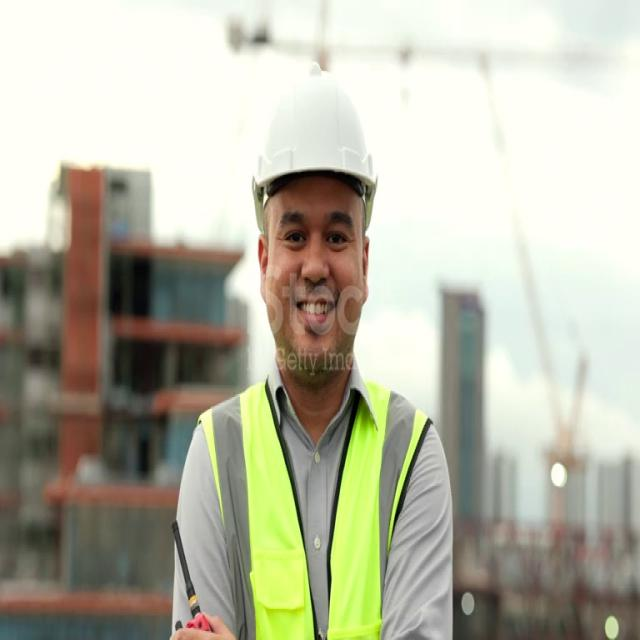capacete: (241, 66, 386, 242)
